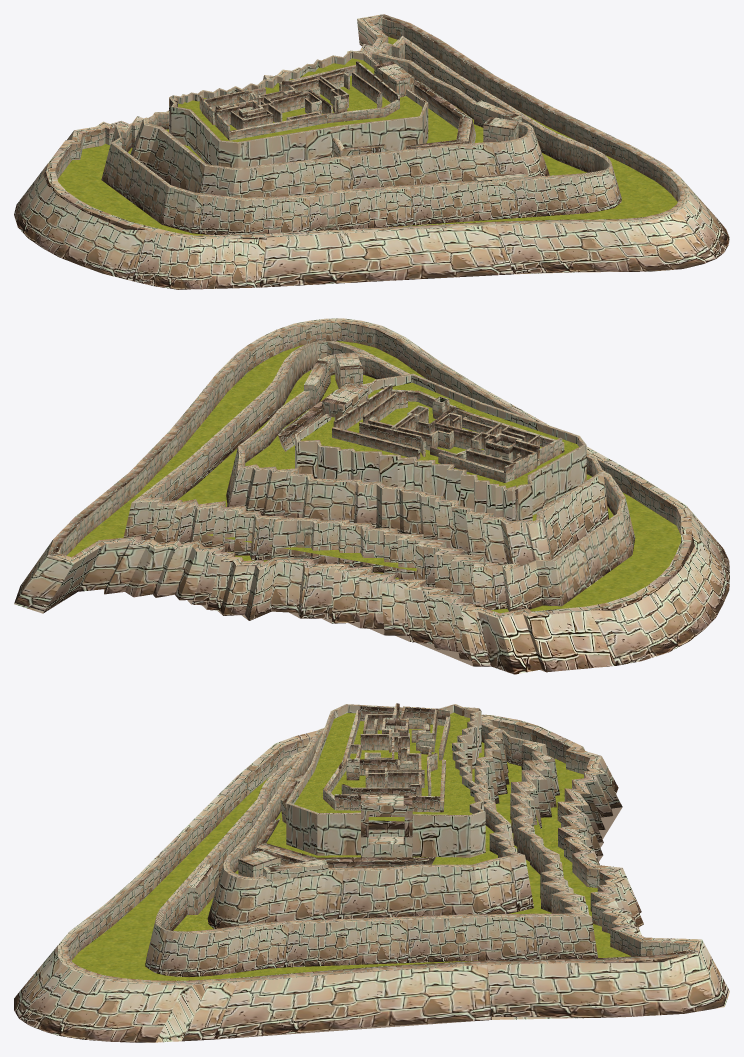
The model's file is sacsaywaman.fbx.
3 renders of one model, top to bottom at view 1: azimuth 30°, elevation 25°; view 2: azimuth 150°, elevation 25°; view 3: azimuth 270°, elevation 25°, orthographic. The views are drawn at different scales.
Visible parts, largest first — view 1: Nivel1, Nivel2, Nivel3, Nivel4, Nivel5, Plano.005, Entrada, Cubo.054, Cubo.013, Cubo.055, Cubo.041, Plano.002 (+1 smaller); view 2: Nivel1, Nivel2, Nivel3, Nivel4, Nivel5, Entrada, Cubo.033, Cubo.055, Cubo.054, Plano.005, Cubo.044, Cubo (+1 smaller); view 3: Nivel1, Nivel2, Nivel3, Nivel4, Nivel5, Entrada, Plano.005, Cubo.056, Cubo.030, Cubo.055, Cubo.054, Cubo.044.
Part boxes in pixels (<box>): Nivel1: <box>14,14,729,289</box>; Nivel2: <box>101,36,621,235</box>; Nivel3: <box>130,50,549,197</box>; Nivel4: <box>169,50,428,167</box>; Nivel5: <box>199,61,399,140</box>; Plano.005: <box>405,80,475,149</box>; Entrada: <box>374,61,414,97</box>; Cubo.054: <box>483,117,518,142</box>; Cubo.013: <box>271,92,321,114</box>; Cubo.055: <box>474,100,521,127</box>; Cubo.041: <box>230,110,273,129</box>; Plano.002: <box>332,138,386,157</box>; Nivel1: <box>14,318,729,674</box>; Nivel2: <box>123,341,635,611</box>; Nivel3: <box>226,353,608,565</box>; Nivel4: <box>295,373,586,521</box>; Nivel5: <box>332,384,564,482</box>; Entrada: <box>322,382,368,420</box>; Cubo.033: <box>359,422,425,456</box>; Cubo.055: <box>304,358,330,408</box>; Cubo.054: <box>335,352,362,388</box>; Plano.005: <box>277,382,370,451</box>; Cubo.044: <box>363,391,407,423</box>; Cubo: <box>485,433,522,461</box>; Nivel1: <box>14,714,729,1042</box>; Nivel2: <box>145,729,597,977</box>; Nivel3: <box>207,718,533,928</box>; Nivel4: <box>286,704,485,857</box>; Nivel5: <box>323,703,450,812</box>; Entrada: <box>361,795,412,857</box>; Plano.005: <box>251,818,435,867</box>; Cubo.056: <box>184,864,218,914</box>; Cubo.030: <box>365,768,424,787</box>; Cubo.055: <box>263,859,328,882</box>; Cubo.054: <box>238,849,280,877</box>; Cubo.044: <box>341,784,415,795</box>.
Size of the model in its own units: 7053 by 1393 by 7060.
